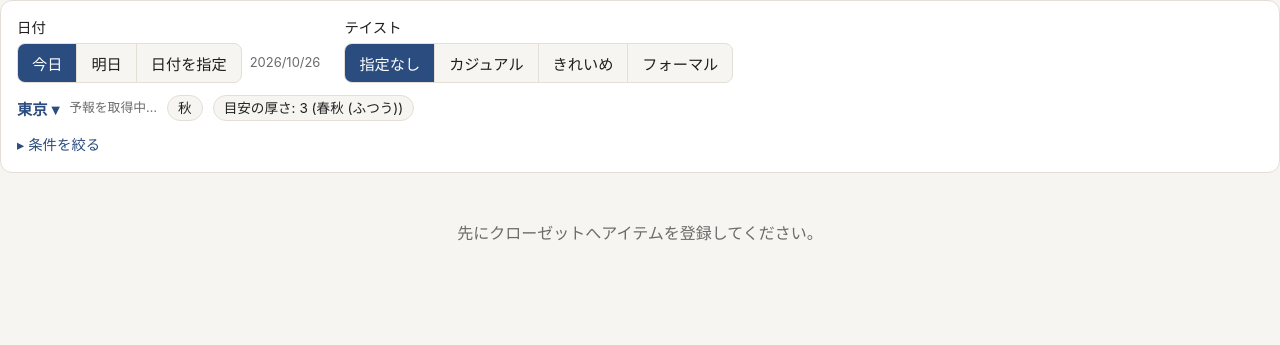
Test: SuggestView date shortcuts › shows the calendar input only when "日付を指定" is chosen, and marks it active for other dates
Click the button "▸ 条件を絞る": (59, 144) [17,133,100,154]
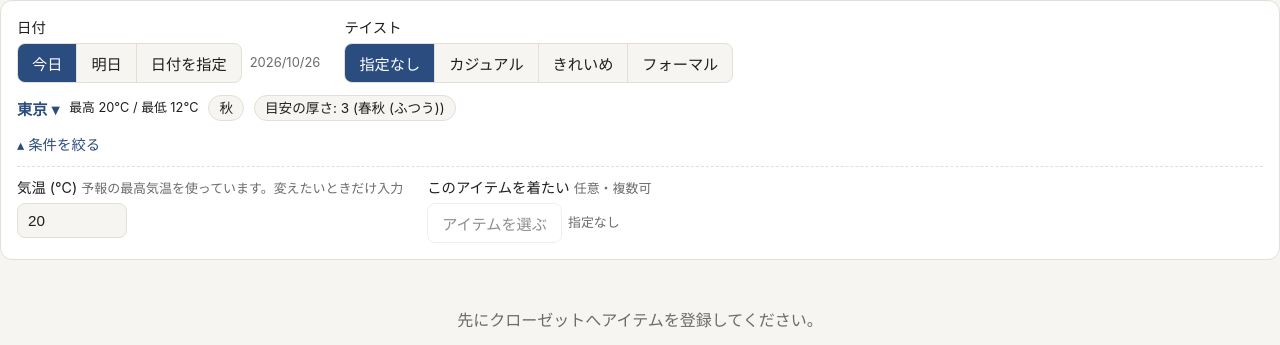
Now the number field with placeholder "例: 18" holds "20", box [17,203,127,238]
Click the button "日付を指定": (188, 63) [136,44,241,82]
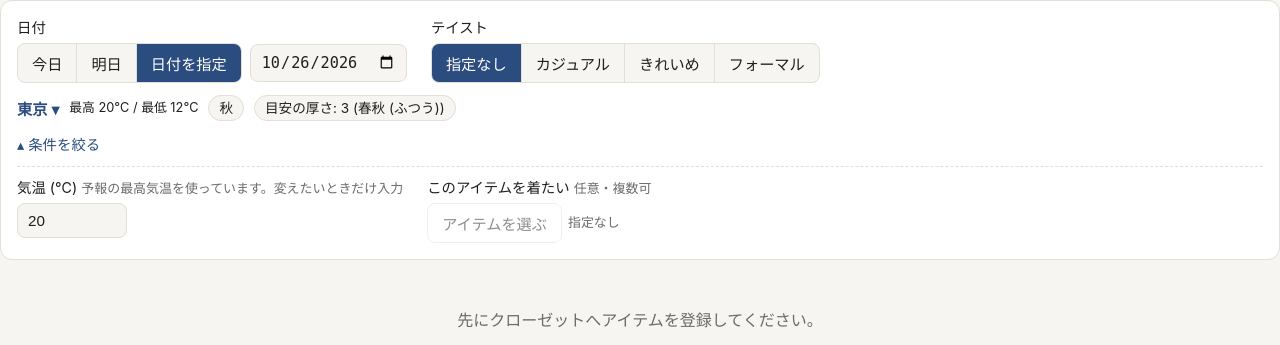
Now the date field named "日付を選択" is shown
In the date field named "日付を選択": (328, 63) [250,44,407,82], type "2030-01-01"
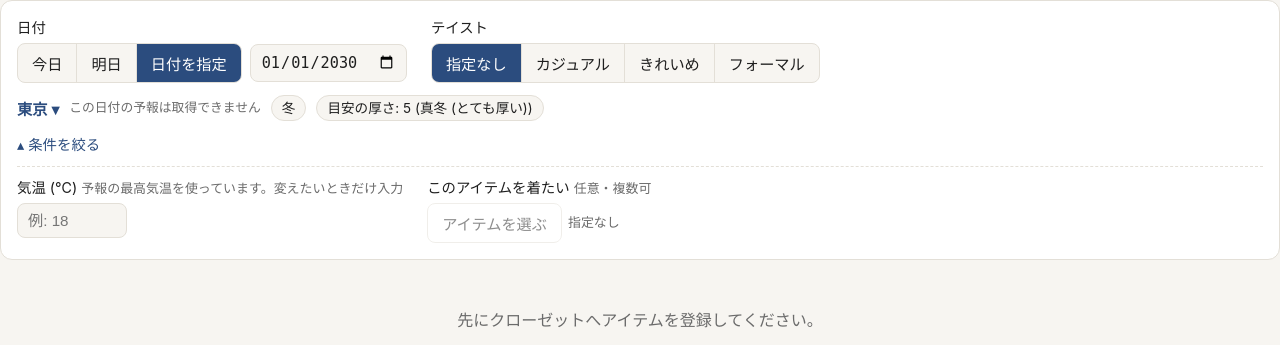
Now the button "日付を指定" is pressed, box [136,44,241,82]
Now the button "今日" is not pressed
Click the button "今日": (47, 63) [18,44,76,82]
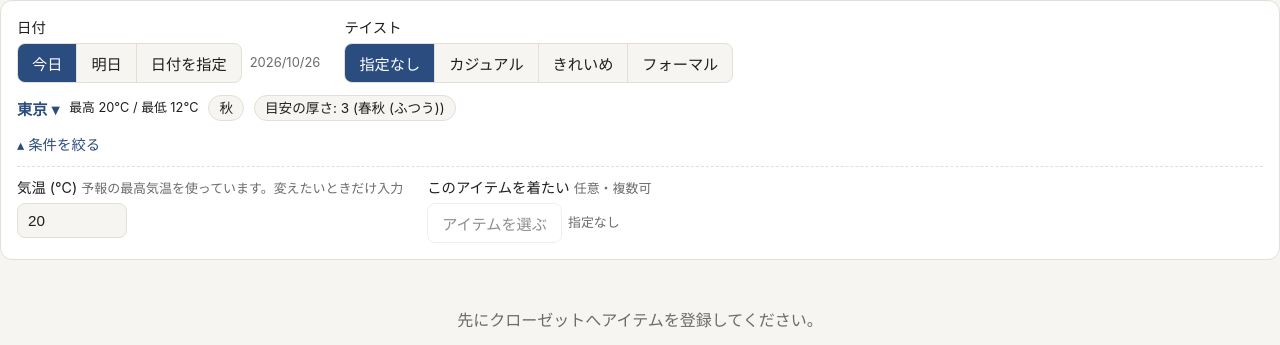
Now the date field is gone
